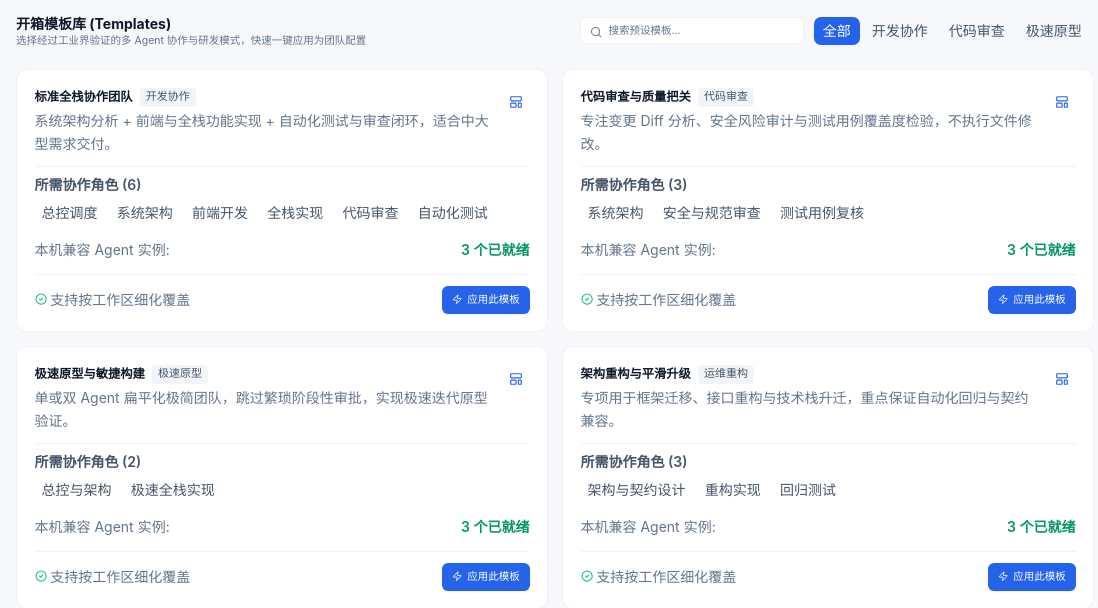
Test: TemplatesPage › filters templates by category and search term
The image size is (1098, 608).
Step 1. Type "全栈" into the field with placeholder "搜索预设模板..." → (692, 31), box [580,17,804,44]
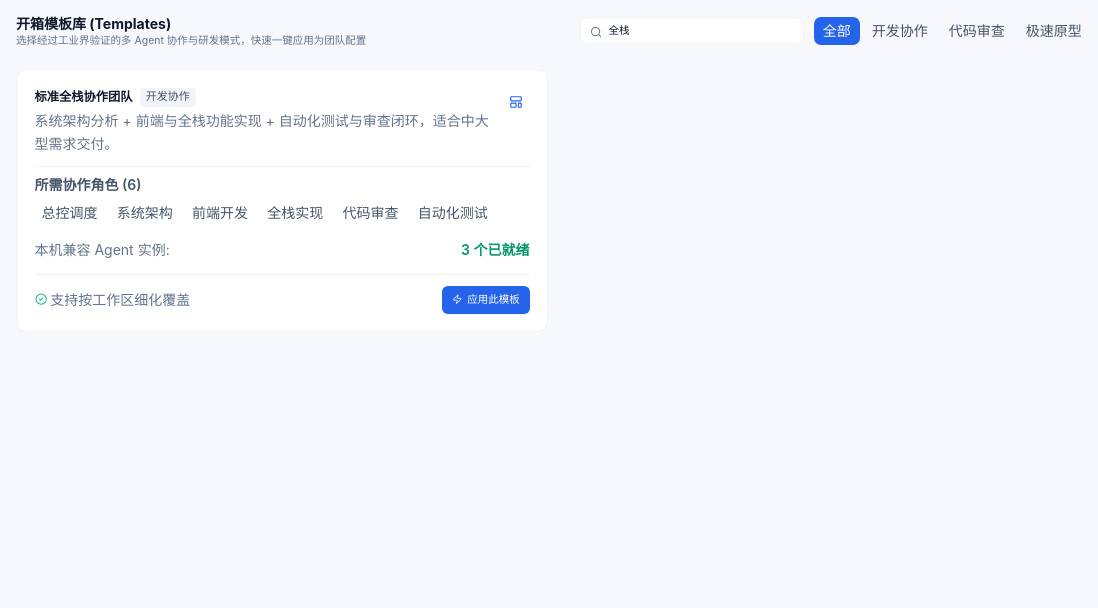
Expected: the text "标准全栈协作团队" is shown, [34,88,132,106]
Result: the text "极速原型与敏捷构建" is gone
